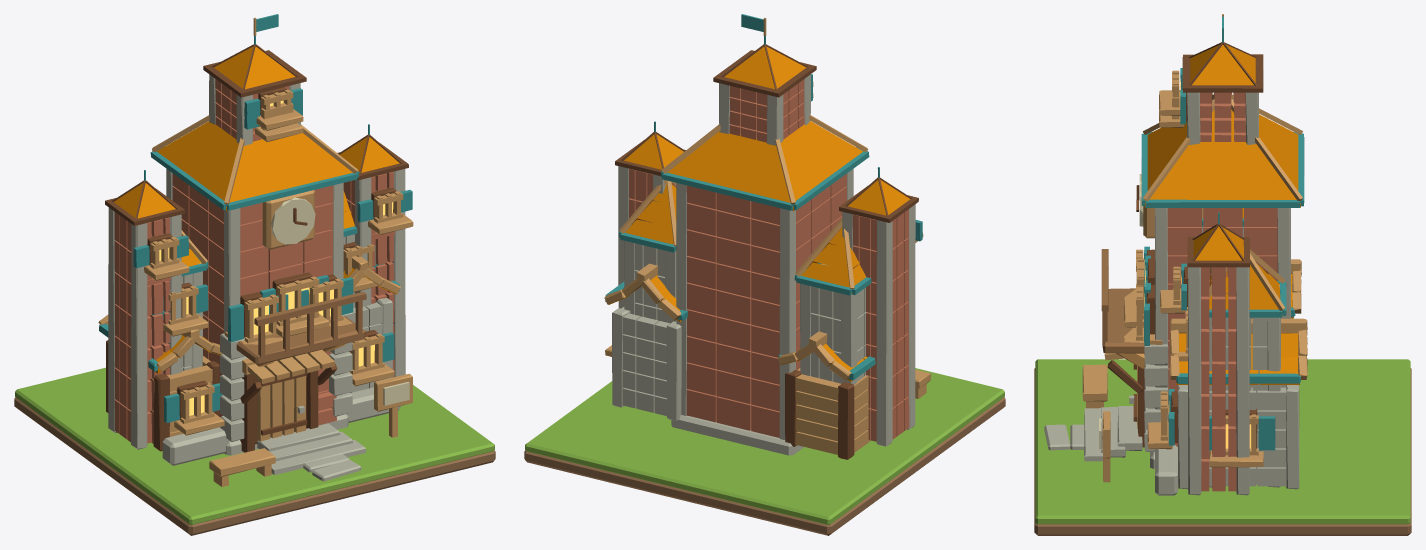
Rendered from town_hall_l10_active_LOD1.glb.
The picture shows the model from 3 angles, left to right: view 1: azimuth 30°, elevation 25°; view 2: azimuth 150°, elevation 25°; view 3: azimuth 270°, elevation 25°; orthographic projection. The views are drawn at different scales.
Parts seen in each view (by area): view 1: town_hall_l10_active_foundation.001, town_hall_l10_active_grass_tile.001, town_hall_l10_active_earth_tile.001, town_hall_l10_active_path_stone.005; view 2: town_hall_l10_active_foundation.001, town_hall_l10_active_grass_tile.001, town_hall_l10_active_earth_tile.001; view 3: town_hall_l10_active_foundation.001, town_hall_l10_active_grass_tile.001, town_hall_l10_active_earth_tile.001, town_hall_l10_active_path_stone.005.
Boxes of the visible parts, x1=… form: town_hall_l10_active_foundation.001: x1=98, y1=14, x2=413, y2=486; town_hall_l10_active_grass_tile.001: x1=15, y1=367, x2=494, y2=524; town_hall_l10_active_earth_tile.001: x1=14, y1=397, x2=495, y2=535; town_hall_l10_active_path_stone.005: x1=312, y1=459, x2=361, y2=481; town_hall_l10_active_foundation.001: x1=604, y1=14, x2=930, y2=459; town_hall_l10_active_grass_tile.001: x1=525, y1=368, x2=1004, y2=524; town_hall_l10_active_earth_tile.001: x1=524, y1=397, x2=1005, y2=535; town_hall_l10_active_foundation.001: x1=1082, y1=14, x2=1307, y2=495; town_hall_l10_active_grass_tile.001: x1=1035, y1=359, x2=1410, y2=524; town_hall_l10_active_earth_tile.001: x1=1034, y1=368, x2=1411, y2=535; town_hall_l10_active_path_stone.005: x1=1044, y1=424, x2=1070, y2=450.
Bounding box in the file's own units: 3.6 × 4.67 × 3.6.
